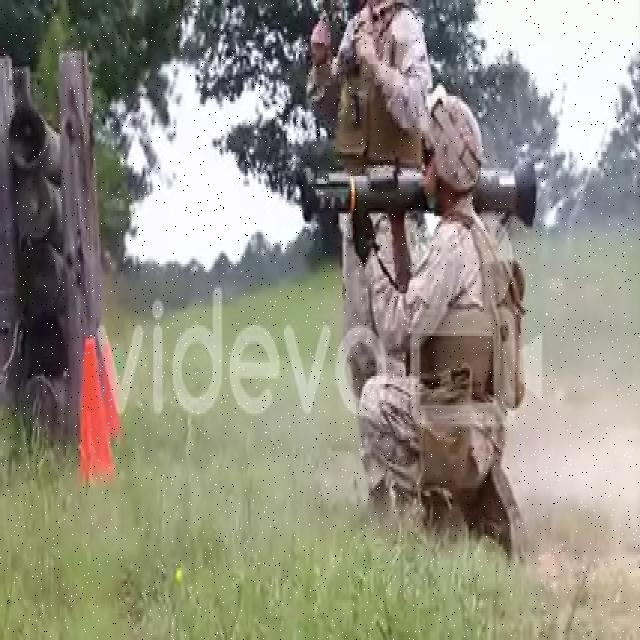bazooka: (301, 159, 548, 232)
